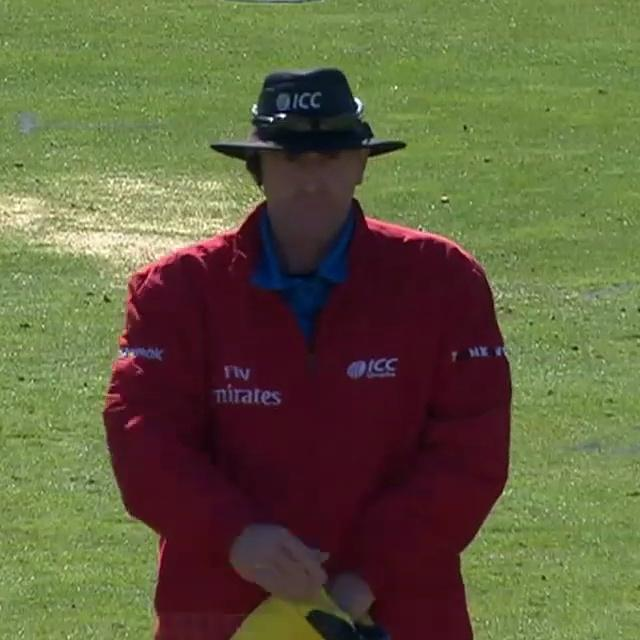umpire: (69, 30, 547, 640)
